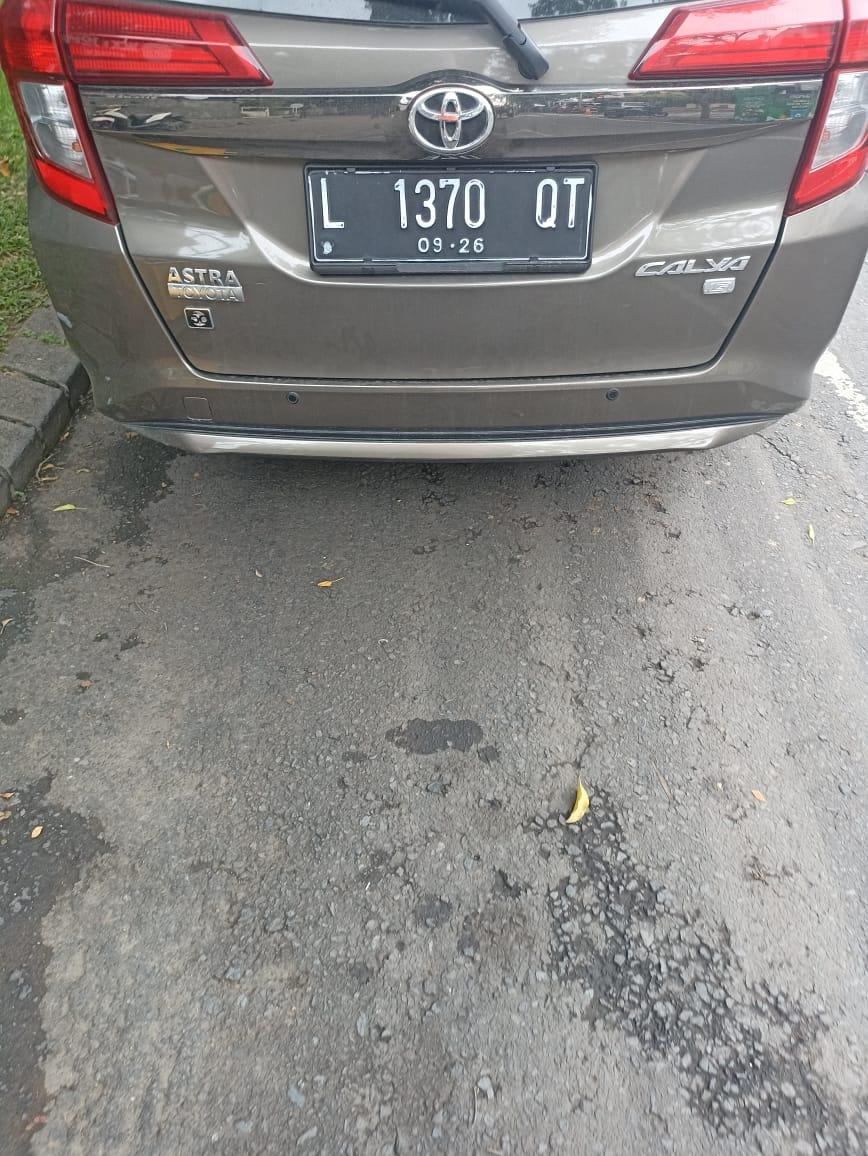plat: (305, 165, 596, 273)
